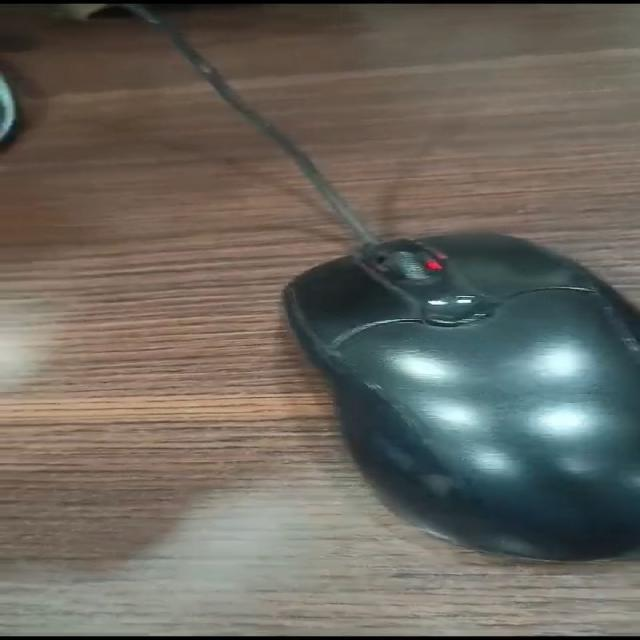Mouse: (192, 213, 640, 595)
